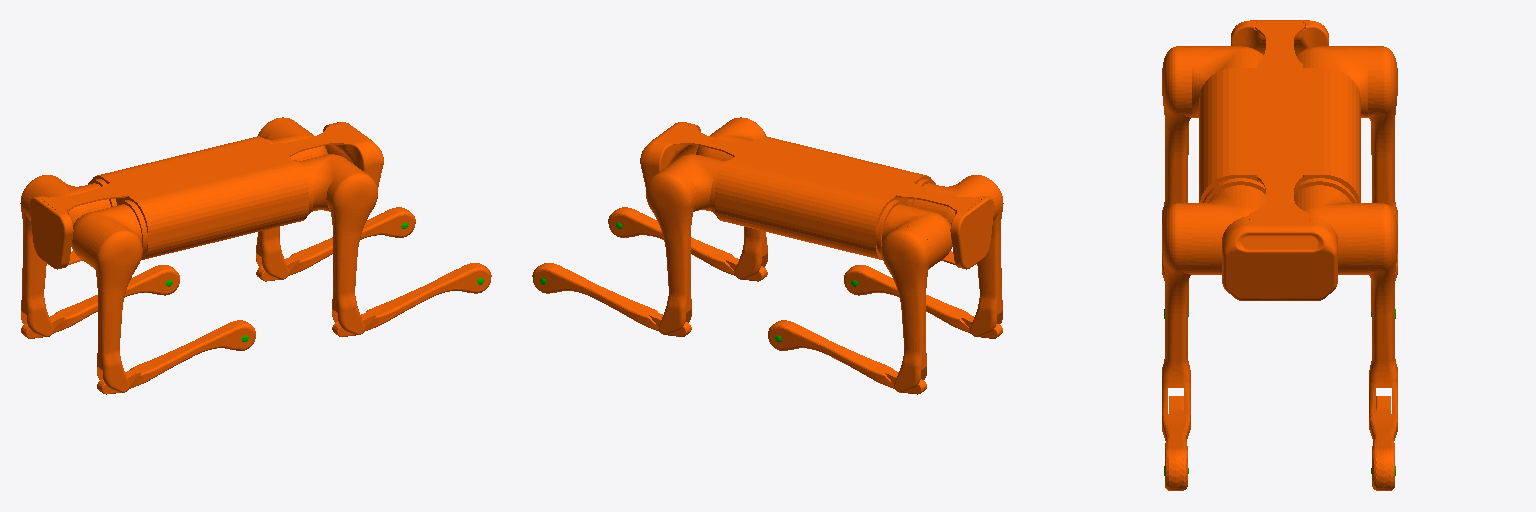
--- Facts derived from the render (not from the file) ---
3 views of the same robot in one strip: view 1: azimuth 30°, elevation 25°; view 2: azimuth 150°, elevation 25°; view 3: azimuth 270°, elevation 25° (orthographic).
Robot: aliengo_description — 19 links, 18 joints (8 revolute, 4 continuous, 6 fixed); root link base; default pose: joints at zero except 4 at the middle of their limits (FR_calf_joint = -1.71, FL_calf_joint = -1.71, RR_calf_joint = -1.71, RL_calf_joint = -1.71).
Links seen in each view (by area): view 1: trunk, FR_thigh, RR_thigh, FR_calf, RR_calf, RL_thigh, RR_hip, FL_calf, RL_calf, FR_hip, FL_thigh, RL_hip (+1 smaller); view 2: trunk, FL_thigh, RL_thigh, FL_calf, RL_calf, RR_thigh, RL_hip, FR_calf, RR_calf, FL_hip, FR_thigh, RR_hip (+1 smaller); view 3: trunk, FR_thigh, FL_thigh, RR_thigh, RL_thigh, FR_hip, FL_hip, FR_calf, FL_calf, RR_hip, RL_hip.
Link boxes in pixels (left/top/right/bottom): trunk: left=29, top=122, right=383, bottom=269; FR_thigh: left=326, top=169, right=377, bottom=334; RR_thigh: left=91, top=226, right=142, bottom=392; FR_calf: left=332, top=263, right=491, bottom=336; RR_calf: left=97, top=320, right=255, bottom=394; RL_thigh: left=20, top=175, right=61, bottom=336; RR_hip: left=72, top=200, right=147, bottom=268; FL_calf: left=256, top=207, right=415, bottom=281; RL_calf: left=21, top=265, right=179, bottom=338; FR_hip: left=294, top=154, right=363, bottom=214; FL_thigh: left=256, top=117, right=297, bottom=279; RL_hip: left=27, top=179, right=116, bottom=224; trunk: left=640, top=122, right=994, bottom=269; FL_thigh: left=646, top=169, right=697, bottom=334; RL_thigh: left=881, top=226, right=932, bottom=392; FL_calf: left=532, top=263, right=691, bottom=336; RL_calf: left=768, top=320, right=926, bottom=394; RR_thigh: left=962, top=175, right=1003, bottom=336; RL_hip: left=876, top=200, right=951, bottom=268; FR_calf: left=608, top=207, right=767, bottom=281; RR_calf: left=844, top=265, right=1002, bottom=338; FL_hip: left=660, top=154, right=729, bottom=214; FR_thigh: left=726, top=117, right=767, bottom=279; RR_hip: left=907, top=179, right=996, bottom=224; trunk: left=1199, top=20, right=1360, bottom=300; FR_thigh: left=1162, top=203, right=1191, bottom=419; FL_thigh: left=1368, top=203, right=1397, bottom=419; RR_thigh: left=1162, top=46, right=1191, bottom=260; RL_thigh: left=1368, top=46, right=1397, bottom=260; FR_hip: left=1192, top=178, right=1265, bottom=274; FL_hip: left=1294, top=178, right=1367, bottom=274; FR_calf: left=1162, top=396, right=1190, bottom=490; FL_calf: left=1369, top=396, right=1397, bottom=490; RR_hip: left=1192, top=46, right=1263, bottom=117; RL_hip: left=1296, top=46, right=1367, bottom=117.
Bounding box of the posed robot: 0.8247 × 0.3054 × 0.321 m (x, y, z).
Meshes: 5 distinct files referenced, 13 mesh visuals loaded (5 Collada DAE).

URDF robot description (aliengo_description):
<?xml version="1.0" encoding="utf-8"?>
<!-- =================================================================================== -->
<!-- |    This document was autogenerated by xacro from robot.xacro                    | -->
<!-- |    EDITING THIS FILE BY HAND IS NOT RECOMMENDED                                 | -->
<!-- =================================================================================== -->
<robot name="aliengo_description">
  <material name="black">
    <color rgba="0.0 0.0 0.0 1.0"/>
  </material>
  <material name="blue">
    <color rgba="0.0 0.0 0.8 1.0"/>
  </material>
  <material name="green">
    <color rgba="0.0 0.8 0.0 1.0"/>
  </material>
  <material name="grey">
    <color rgba="0.2 0.2 0.2 1.0"/>
  </material>
  <material name="silver">
    <color rgba="0.913725490196 0.913725490196 0.847058823529 1.0"/>
  </material>
  <material name="orange">
    <color rgba="1.0 0.423529411765 0.0392156862745 1.0"/>
  </material>
  <material name="brown">
    <color rgba="0.870588235294 0.811764705882 0.764705882353 1.0"/>
  </material>
  <material name="red">
    <color rgba="0.8 0.0 0.0 1.0"/>
  </material>
  <material name="white">
    <color rgba="1.0 1.0 1.0 1.0"/>
  </material>
  <!-- ros_control plugin -->
  <gazebo>
    <plugin filename="libgazebo_ros_control.so" name="gazebo_ros_control">
      <robotNamespace>/aliengo_gazebo</robotNamespace>
      <robotSimType>gazebo_ros_control/DefaultRobotHWSim</robotSimType>
    </plugin>
  </gazebo>
  <!-- Show the trajectory of trunk center. -->
  <gazebo>
    <plugin filename="libLinkPlot3DPlugin.so" name="3dplot">
      <frequency>10</frequency>
      <plot>
        <link>base</link>
        <pose>0 0 0 0 0 0</pose>
        <material>Gazebo/Yellow</material>
      </plot>
    </plugin>
  </gazebo>
  <!-- Show the trajectory of foot. You can add another trajectory about another foot. -->
  <!-- <gazebo>
        <plugin name="3dplot" filename="libLinkPlot3DPlugin.so">
            <frequency>100</frequency>
            <plot>
                <link>FL_foot</link>
                <pose>0 0 0 0 0 0</pose>
                <material>Gazebo/Green</material>
            </plot>
        </plugin>
    </gazebo> -->
  <gazebo>
    <plugin filename="libgazebo_ros_force.so" name="gazebo_ros_force">
      <bodyName>trunk</bodyName>
      <topicName>/apply_force/trunk</topicName>
    </plugin>
  </gazebo>
  <gazebo reference="imu_link">
    <gravity>true</gravity>
    <sensor name="imu_sensor" type="imu">
      <always_on>true</always_on>
      <update_rate>1000</update_rate>
      <visualize>true</visualize>
      <topic>__default_topic__</topic>
      <plugin filename="libgazebo_ros_imu_sensor.so" name="imu_plugin">
        <topicName>trunk_imu</topicName>
        <bodyName>imu_link</bodyName>
        <updateRateHZ>1000.0</updateRateHZ>
        <gaussianNoise>0.0</gaussianNoise>
        <xyzOffset>0 0 0</xyzOffset>
        <rpyOffset>0 0 0</rpyOffset>
        <frameName>imu_link</frameName>
      </plugin>
      <pose>0 0 0 0 0 0</pose>
    </sensor>
  </gazebo>
  <!-- Foot contacts. -->
  <gazebo reference="FR_calf">
    <sensor name="FR_foot_contact" type="contact">
      <update_rate>100</update_rate>
      <plugin filename="libunitreeFootContactPlugin.so" name="contactPlugin"/>
      <contact>
        <collision>FR_calf_fixed_joint_lump__FR_foot_collision_1</collision>
      </contact>
    </sensor>
  </gazebo>
  <gazebo reference="FL_calf">
    <sensor name="FL_foot_contact" type="contact">
      <update_rate>100</update_rate>
      <plugin filename="libunitreeFootContactPlugin.so" name="contactPlugin"/>
      <contact>
        <collision>FL_calf_fixed_joint_lump__FL_foot_collision_1</collision>
      </contact>
    </sensor>
  </gazebo>
  <gazebo reference="RR_calf">
    <sensor name="RR_foot_contact" type="contact">
      <update_rate>100</update_rate>
      <plugin filename="libunitreeFootContactPlugin.so" name="contactPlugin"/>
      <contact>
        <collision>RR_calf_fixed_joint_lump__RR_foot_collision_1</collision>
      </contact>
    </sensor>
  </gazebo>
  <gazebo reference="RL_calf">
    <sensor name="RL_foot_contact" type="contact">
      <update_rate>100</update_rate>
      <plugin filename="libunitreeFootContactPlugin.so" name="contactPlugin"/>
      <contact>
        <collision>RL_calf_fixed_joint_lump__RL_foot_collision_1</collision>
      </contact>
    </sensor>
  </gazebo>
  <!-- Visualization of Foot contacts. -->
  <gazebo reference="FR_foot">
    <visual>
      <plugin filename="libunitreeDrawForcePlugin.so" name="drawForcePlugin">
        <topicName>FR_foot_contact</topicName>
      </plugin>
    </visual>
  </gazebo>
  <gazebo reference="FL_foot">
    <visual>
      <plugin filename="libunitreeDrawForcePlugin.so" name="drawForcePlugin">
        <topicName>FL_foot_contact</topicName>
      </plugin>
    </visual>
  </gazebo>
  <gazebo reference="RR_foot">
    <visual>
      <plugin filename="libunitreeDrawForcePlugin.so" name="drawForcePlugin">
        <topicName>RR_foot_contact</topicName>
      </plugin>
    </visual>
  </gazebo>
  <gazebo reference="RL_foot">
    <visual>
      <plugin filename="libunitreeDrawForcePlugin.so" name="drawForcePlugin">
        <topicName>RL_foot_contact</topicName>
      </plugin>
    </visual>
  </gazebo>
  <gazebo reference="base">
    <material>Gazebo/Green</material>
    <turnGravityOff>false</turnGravityOff>
  </gazebo>
  <gazebo reference="trunk">
    <mu1>0.2</mu1>
    <mu2>0.2</mu2>
    <kp value="1000000.0"/>
    <kd value="1.0"/>
  </gazebo>
  <gazebo reference="stick_link">
    <mu1>0.2</mu1>
    <mu2>0.2</mu2>
    <material>Gazebo/White</material>
  </gazebo>
  <gazebo reference="imu_link">
    <mu1>0.2</mu1>
    <mu2>0.2</mu2>
    <material>Gazebo/Red</material>
  </gazebo>
  <!-- FL leg -->
  <gazebo reference="FL_hip">
    <mu1>0.2</mu1>
    <mu2>0.2</mu2>
    <material>Gazebo/DarkGrey</material>
  </gazebo>
  <gazebo reference="FL_thigh">
    <mu1>0.2</mu1>
    <mu2>0.2</mu2>
    <self_collide>1</self_collide>
    <material>Gazebo/DarkGrey</material>
    <kp value="1000000.0"/>
    <kd value="1.0"/>
  </gazebo>
  <gazebo reference="FL_calf">
    <mu1>0.2</mu1>
    <mu2>0.2</mu2>
    <self_collide>1</self_collide>
  </gazebo>
  <gazebo reference="FL_foot">
    <mu1>0.6</mu1>
    <mu2>0.6</mu2>
    <self_collide>1</self_collide>
    <material>Gazebo/DarkGrey</material>
    <kp value="1000000.0"/>
    <kd value="1.0"/>
  </gazebo>
  <!-- FR leg -->
  <gazebo reference="FR_hip">
    <mu1>0.2</mu1>
    <mu2>0.2</mu2>
    <material>Gazebo/DarkGrey</material>
  </gazebo>
  <gazebo reference="FR_thigh">
    <mu1>0.2</mu1>
    <mu2>0.2</mu2>
    <self_collide>1</self_collide>
    <material>Gazebo/DarkGrey</material>
    <kp value="1000000.0"/>
    <kd value="1.0"/>
  </gazebo>
  <gazebo reference="FR_calf">
    <mu1>0.2</mu1>
    <mu2>0.2</mu2>
    <self_collide>1</self_collide>
  </gazebo>
  <gazebo reference="FR_foot">
    <mu1>0.6</mu1>
    <mu2>0.6</mu2>
    <self_collide>1</self_collide>
    <material>Gazebo/DarkGrey</material>
    <kp value="1000000.0"/>
    <kd value="1.0"/>
  </gazebo>
  <!-- RL leg -->
  <gazebo reference="RL_hip">
    <mu1>0.2</mu1>
    <mu2>0.2</mu2>
    <material>Gazebo/DarkGrey</material>
  </gazebo>
  <gazebo reference="RL_thigh">
    <mu1>0.2</mu1>
    <mu2>0.2</mu2>
    <self_collide>1</self_collide>
    <material>Gazebo/DarkGrey</material>
    <kp value="1000000.0"/>
    <kd value="1.0"/>
  </gazebo>
  <gazebo reference="RL_calf">
    <mu1>0.2</mu1>
    <mu2>0.2</mu2>
    <self_collide>1</self_collide>
  </gazebo>
  <gazebo reference="RL_foot">
    <mu1>0.6</mu1>
    <mu2>0.6</mu2>
    <self_collide>1</self_collide>
    <material>Gazebo/DarkGrey</material>
    <kp value="1000000.0"/>
    <kd value="1.0"/>
  </gazebo>
  <!-- RR leg -->
  <gazebo reference="RR_hip">
    <mu1>0.2</mu1>
    <mu2>0.2</mu2>
    <material>Gazebo/DarkGrey</material>
  </gazebo>
  <gazebo reference="RR_thigh">
    <mu1>0.2</mu1>
    <mu2>0.2</mu2>
    <self_collide>1</self_collide>
    <material>Gazebo/DarkGrey</material>
    <kp value="1000000.0"/>
    <kd value="1.0"/>
  </gazebo>
  <gazebo reference="RR_calf">
    <mu1>0.2</mu1>
    <mu2>0.2</mu2>
    <self_collide>1</self_collide>
  </gazebo>
  <gazebo reference="RR_foot">
    <mu1>0.6</mu1>
    <mu2>0.6</mu2>
    <self_collide>1</self_collide>
    <material>Gazebo/DarkGrey</material>
    <kp value="1000000.0"/>
    <kd value="1.0"/>
  </gazebo>
  <!-- Debug mode will hung up the robot, use "true" or "false" to switch it. -->
  <!-- <xacro:if value="$(arg DEBUG)">
        <link name="world"/>
        <joint name="base_static_joint" type="fixed">
            <origin rpy="0 0 0" xyz="0 0 0"/>
            <parent link="world"/>
            <child link="base"/>
        </joint>
    </xacro:if>  -->
  <link name="base">
    <visual>
      <origin rpy="0 0 0" xyz="0 0 0"/>
      <geometry>
        <box size="0.001 0.001 0.001"/>
      </geometry>
    </visual>
  </link>
  <joint name="floating_base" type="fixed">
    <origin rpy="0 0 0" xyz="0 0 0"/>
    <parent link="base"/>
    <child link="trunk"/>
  </joint>
  <link name="trunk">
    <visual>
      <origin rpy="0 0 0" xyz="0 0 0"/>
      <geometry>
        <mesh filename="package://aliengo_description/meshes/trunk.dae" scale="1 1 1"/>
      </geometry>
      <material name="orange"/>
    </visual>
    <collision>
      <origin rpy="0 0 0" xyz="0 0 0"/>
      <geometry>
        <box size="0.647 0.15 0.112"/>
      </geometry>
    </collision>
    <!-- <collision>
            <origin rpy="0 0 0" xyz="0 0 0"/>
            <geometry>
                <mesh filename="package://aliengo_description/meshes/trunk.dae" scale="1 1 1"/>
            </geometry>
        </collision> -->
    <inertial>
      <origin rpy="0 0 0" xyz="0.008465 0.004045 -0.000763"/>
      <mass value="9.041"/>
      <inertia ixx="0.033260231" ixy="-0.000451628" ixz="0.000487603" iyy="0.16117211" iyz="4.8356e-05" izz="0.17460442"/>
    </inertial>
  </link>
  <joint name="imu_joint" type="fixed">
    <parent link="trunk"/>
    <child link="imu_link"/>
    <origin rpy="0 0 0" xyz="0 0 0"/>
  </joint>
  <link name="imu_link">
    <inertial>
      <mass value="0.001"/>
      <origin rpy="0 0 0" xyz="0 0 0"/>
      <inertia ixx="0.0001" ixy="0" ixz="0" iyy="0.000001" iyz="0" izz="0.0001"/>
    </inertial>
    <visual>
      <origin rpy="0 0 0" xyz="0 0 0"/>
      <geometry>
        <box size="0.001 0.001 0.001"/>
      </geometry>
      <material name="red"/>
    </visual>
    <collision>
      <origin rpy="0 0 0" xyz="0 0 0"/>
      <geometry>
        <box size=".001 .001 .001"/>
      </geometry>
    </collision>
  </link>
  <joint name="FR_hip_joint" type="revolute">
    <origin rpy="0 0 0" xyz="0.2399 -0.051 0"/>
    <parent link="trunk"/>
    <child link="FR_hip"/>
    <axis xyz="1 0 0"/>
    <dynamics damping="0" friction="0"/>
    <limit effort="44" lower="-1.2217304764" upper="1.2217304764" velocity="20"/>
  </joint>
  <link name="FR_hip">
    <visual>
      <origin rpy="3.14159265359 0 0" xyz="0 0 0"/>
      <geometry>
        <mesh filename="package://aliengo_description/meshes/hip.dae" scale="1 1 1"/>
      </geometry>
      <material name="orange"/>
    </visual>
    <collision>
      <origin rpy="1.57079632679 0 0" xyz="0 -0.083 0"/>
      <geometry>
        <cylinder length="0.0418" radius="0.046"/>
      </geometry>
    </collision>
    <inertial>
      <origin rpy="0 0 0" xyz="-0.022191 -0.015144 -1.5e-05"/>
      <mass value="1.993"/>
      <inertia ixx="0.002903894" ixy="7.185e-05" ixz="-1.262e-06" iyy="0.004907517" iyz="1.75e-06" izz="0.005586944"/>
    </inertial>
  </link>
  <!-- <joint name="${name}_hip_fixed" type="fixed">
            <origin rpy="0 0 0" xyz="0 ${(thigh_shoulder_length/2.0+hip_offset)*mirror} 0"/>
            <parent link="${name}_hip"/>
            <child link="${name}_thigh_shoulder"/>
        </joint> -->
  <!-- this link is only for collision -->
  <!-- <link name="${name}_thigh_shoulder">
            <collision>
                <origin rpy="${PI/2.0} 0 0" xyz="0 0 0"/>
                <geometry>
                    <cylinder length="${thigh_shoulder_length}" radius="${thigh_shoulder_radius}"/>
                </geometry>
            </collision>
        </link> -->
  <joint name="FR_thigh_joint" type="continuous">
    <origin rpy="0 0 0" xyz="0 -0.083 0"/>
    <parent link="FR_hip"/>
    <child link="FR_thigh"/>
    <axis xyz="0 1 0"/>
    <dynamics damping="0" friction="0"/>
    <limit effort="44" velocity="20"/>
  </joint>
  <link name="FR_thigh">
    <visual>
      <origin rpy="0 0 0" xyz="0 0 0"/>
      <geometry>
        <mesh filename="package://aliengo_description/meshes/thigh_mirror.dae" scale="1 1 1"/>
      </geometry>
      <material name="orange"/>
    </visual>
    <collision>
      <origin rpy="0 1.57079632679 0" xyz="0 0 -0.125"/>
      <geometry>
        <box size="0.25 0.0374 0.043"/>
      </geometry>
    </collision>
    <inertial>
      <origin rpy="0 0 0" xyz="-0.005607 0.003877 -0.048199"/>
      <mass value="0.639"/>
      <inertia ixx="0.005666803" ixy="-3.597e-06" ixz="0.000491446" iyy="0.005847229" iyz="-1.0086e-05" izz="0.000369811"/>
    </inertial>
  </link>
  <joint name="FR_calf_joint" type="revolute">
    <origin rpy="0 0 0" xyz="0 0 -0.25"/>
    <parent link="FR_thigh"/>
    <child link="FR_calf"/>
    <axis xyz="0 1 0"/>
    <dynamics damping="0" friction="0"/>
    <limit effort="55" lower="-2.77507351067" upper="-0.645771823238" velocity="16"/>
  </joint>
  <link name="FR_calf">
    <visual>
      <origin rpy="0 0 0" xyz="0 0 0"/>
      <geometry>
        <mesh filename="package://aliengo_description/meshes/calf.dae" scale="1 1 1"/>
      </geometry>
      <material name="orange"/>
    </visual>
    <collision>
      <origin rpy="0 1.57079632679 0" xyz="0 0 -0.125"/>
      <geometry>
        <box size="0.25 0.0208 0.016"/>
      </geometry>
    </collision>
    <inertial>
      <origin rpy="0 0 0" xyz="0.002781 6.3e-05 -0.142518"/>
      <mass value="0.207"/>
      <inertia ixx="0.006341369" ixy="-3e-09" ixz="-8.7951e-05" iyy="0.006355157" iyz="-1.336e-06" izz="3.9188e-05"/>
    </inertial>
  </link>
  <joint name="FR_foot_fixed" type="fixed">
    <origin rpy="0 0 0" xyz="0 0 -0.25"/>
    <parent link="FR_calf"/>
    <child link="FR_foot"/>
  </joint>
  <link name="FR_foot">
    <visual>
      <origin rpy="0 0 0" xyz="0 0 0"/>
      <geometry>
        <sphere radius="0.0165"/>
      </geometry>
      <material name="green"/>
    </visual>
    <collision>
      <origin rpy="0 0 0" xyz="0 0 0"/>
      <geometry>
        <sphere radius="0.0265"/>
      </geometry>
    </collision>
    <inertial>
      <mass value="0.06"/>
      <inertia ixx="1.6854e-05" ixy="0.0" ixz="0.0" iyy="1.6854e-05" iyz="0.0" izz="1.6854e-05"/>
    </inertial>
  </link>
  <transmission name="FR_hip_tran">
    <type>transmission_interface/SimpleTransmission</type>
    <joint name="FR_hip_joint">
      <hardwareInterface>hardware_interface/EffortJointInterface</hardwareInterface>
    </joint>
    <actuator name="FR_hip_motor">
      <hardwareInterface>hardware_interface/EffortJointInterface</hardwareInterface>
      <mechanicalReduction>1</mechanicalReduction>
    </actuator>
  </transmission>
  <transmission name="FR_thigh_tran">
    <type>transmission_interface/SimpleTransmission</type>
    <joint name="FR_thigh_joint">
      <hardwareInterface>hardware_interface/EffortJointInterface</hardwareInterface>
    </joint>
    <actuator name="FR_thigh_motor">
      <hardwareInterface>hardware_interface/EffortJointInterface</hardwareInterface>
      <mechanicalReduction>1</mechanicalReduction>
    </actuator>
  </transmission>
  <transmission name="FR_calf_tran">
    <type>transmission_interface/SimpleTransmission</type>
    <joint name="FR_calf_joint">
      <hardwareInterface>hardware_interface/EffortJointInterface</hardwareInterface>
    </joint>
    <actuator name="FR_calf_motor">
      <hardwareInterface>hardware_interface/EffortJointInterface</hardwareInterface>
      <mechanicalReduction>1</mechanicalReduction>
    </actuator>
  </transmission>
  <joint name="FL_hip_joint" type="revolute">
    <origin rpy="0 0 0" xyz="0.2399 0.051 0"/>
    <parent link="trunk"/>
    <child link="FL_hip"/>
    <axis xyz="1 0 0"/>
    <dynamics damping="0" friction="0"/>
    <limit effort="44" lower="-1.2217304764" upper="1.2217304764" velocity="20"/>
  </joint>
  <link name="FL_hip">
    <visual>
      <origin rpy="0 0 0" xyz="0 0 0"/>
      <geometry>
        <mesh filename="package://aliengo_description/meshes/hip.dae" scale="1 1 1"/>
      </geometry>
      <material name="orange"/>
    </visual>
    <collision>
      <origin rpy="1.57079632679 0 0" xyz="0 0.083 0"/>
      <geometry>
        <cylinder length="0.0418" radius="0.046"/>
      </geometry>
    </collision>
    <inertial>
      <origin rpy="0 0 0" xyz="-0.022191 0.015144 -1.5e-05"/>
      <mass value="1.993"/>
      <inertia ixx="0.002903894" ixy="-7.185e-05" ixz="-1.262e-06" iyy="0.004907517" iyz="-1.75e-06" izz="0.005586944"/>
    </inertial>
  </link>
  <!-- <joint name="${name}_hip_fixed" type="fixed">
            <origin rpy="0 0 0" xyz="0 ${(thigh_shoulder_length/2.0+hip_offset)*mirror} 0"/>
            <parent link="${name}_hip"/>
            <child link="${name}_thigh_shoulder"/>
        </joint> -->
  <!-- this link is only for collision -->
  <!-- <link name="${name}_thigh_shoulder">
            <collision>
                <origin rpy="${PI/2.0} 0 0" xyz="0 0 0"/>
                <geometry>
                    <cylinder length="${thigh_shoulder_length}" radius="${thigh_shoulder_radius}"/>
                </geometry>
            </collision>
        </link> -->
  <joint name="FL_thigh_joint" type="continuous">
    <origin rpy="0 0 0" xyz="0 0.083 0"/>
    <parent link="FL_hip"/>
    <child link="FL_thigh"/>
    <axis xyz="0 1 0"/>
    <dynamics damping="0" friction="0"/>
    <limit effort="44" velocity="20"/>
  </joint>
  <link name="FL_thigh">
    <visual>
      <origin rpy="0 0 0" xyz="0 0 0"/>
      <geometry>
        <mesh filename="package://aliengo_description/meshes/thigh.dae" scale="1 1 1"/>
      </geometry>
      <material name="orange"/>
    </visual>
    <collision>
      <origin rpy="0 1.57079632679 0" xyz="0 0 -0.125"/>
      <geometry>
        <box size="0.25 0.0374 0.043"/>
      </geometry>
    </collision>
    <inertial>
      <origin rpy="0 0 0" xyz="-0.005607 -0.003877 -0.048199"/>
      <mass value="0.639"/>
      <inertia ixx="0.005666803" ixy="3.597e-06" ixz="0.000491446" iyy="0.005847229" iyz="1.0086e-05" izz="0.000369811"/>
    </inertial>
  </link>
  <joint name="FL_calf_joint" type="revolute">
    <origin rpy="0 0 0" xyz="0 0 -0.25"/>
    <parent link="FL_thigh"/>
    <child link="FL_calf"/>
    <axis xyz="0 1 0"/>
    <dynamics damping="0" friction="0"/>
    <limit effort="55" lower="-2.77507351067" upper="-0.645771823238" velocity="16"/>
  </joint>
  <link name="FL_calf">
    <visual>
      <origin rpy="0 0 0" xyz="0 0 0"/>
      <geometry>
        <mesh filename="package://aliengo_description/meshes/calf.dae" scale="1 1 1"/>
      </geometry>
      <material name="orange"/>
    </visual>
    <collision>
      <origin rpy="0 1.57079632679 0" xyz="0 0 -0.125"/>
      <geometry>
        <box size="0.25 0.0208 0.016"/>
      </geometry>
    </collision>
    <inertial>
      <origin rpy="0 0 0" xyz="0.002781 6.3e-05 -0.142518"/>
      <mass value="0.207"/>
      <inertia ixx="0.006341369" ixy="-3e-09" ixz="-8.7951e-05" iyy="0.006355157" iyz="-1.336e-06" izz="3.9188e-05"/>
    </inertial>
  </link>
  <joint name="FL_foot_fixed" type="fixed">
    <origin rpy="0 0 0" xyz="0 0 -0.25"/>
    <parent link="FL_calf"/>
    <child link="FL_foot"/>
  </joint>
  <link name="FL_foot">
    <visual>
      <origin rpy="0 0 0" xyz="0 0 0"/>
      <geometry>
        <sphere radius="0.0165"/>
      </geometry>
      <material name="green"/>
    </visual>
    <collision>
      <origin rpy="0 0 0" xyz="0 0 0"/>
      <geometry>
        <sphere radius="0.0265"/>
      </geometry>
    </collision>
    <inertial>
      <mass value="0.06"/>
      <inertia ixx="1.6854e-05" ixy="0.0" ixz="0.0" iyy="1.6854e-05" iyz="0.0" izz="1.6854e-05"/>
    </inertial>
  </link>
  <transmission name="FL_hip_tran">
    <type>transmission_interface/SimpleTransmission</type>
    <joint name="FL_hip_joint">
      <hardwareInterface>hardware_interface/EffortJointInterface</hardwareInterface>
    </joint>
    <actuator name="FL_hip_motor">
      <hardwareInterface>hardware_interface/EffortJointInterface</hardwareInterface>
      <mechanicalReduction>1</mechanicalReduction>
    </actuator>
  </transmission>
  <transmission name="FL_thigh_tran">
    <type>transmission_interface/SimpleTransmission</type>
    <joint name="FL_thigh_joint">
      <hardwareInterface>hardware_interface/EffortJointInterface</hardwareInterface>
    </joint>
    <actuator name="FL_thigh_motor">
      <hardwareInterface>hardware_interface/EffortJointInterface</hardwareInterface>
      <mechanicalReduction>1</mechanicalReduction>
    </actuator>
  </transmission>
  <transmission name="FL_calf_tran">
    <type>transmission_interface/SimpleTransmission</type>
    <joint name="FL_calf_joint">
      <hardwareInterface>hardware_interface/EffortJointInterface</hardwareInterface>
    </joint>
    <actuator name="FL_calf_motor">
      <hardwareInterface>hardware_interface/EffortJointInterface</hardwareInterface>
      <mechanicalReduction>1</mechanicalReduction>
    </actuator>
  </transmission>
  <joint name="RR_hip_joint" type="revolute">
    <origin rpy="0 0 0" xyz="-0.2399 -0.051 0"/>
    <parent link="trunk"/>
    <child link="RR_hip"/>
    <axis xyz="1 0 0"/>
    <dynamics damping="0" friction="0"/>
    <limit effort="44" lower="-1.2217304764" upper="1.2217304764" velocity="20"/>
  </joint>
  <link name="RR_hip">
    <visual>
      <origin rpy="3.14159265359 3.14159265359 0" xyz="0 0 0"/>
      <geometry>
        <mesh filename="package://aliengo_description/meshes/hip.dae" scale="1 1 1"/>
      </geometry>
      <material name="orange"/>
    </visual>
    <collision>
      <origin rpy="1.57079632679 0 0" xyz="0 -0.083 0"/>
      <geometry>
        <cylinder length="0.0418" radius="0.046"/>
      </geometry>
    </collision>
    <inertial>
      <origin rpy="0 0 0" xyz="0.022191 -0.015144 -1.5e-05"/>
      <mass value="1.993"/>
      <inertia ixx="0.002903894" ixy="-7.185e-05" ixz="1.262e-06" iyy="0.004907517" iyz="1.75e-06" izz="0.005586944"/>
    </inertial>
  </link>
  <!-- <joint name="${name}_hip_fixed" type="fixed">
            <origin rpy="0 0 0" xyz="0 ${(thigh_shoulder_length/2.0+hip_offset)*mirror} 0"/>
            <parent link="${name}_hip"/>
            <child link="${name}_thigh_shoulder"/>
        </joint> -->
  <!-- this link is only for collision -->
  <!-- <link name="${name}_thigh_shoulder">
            <collision>
                <origin rpy="${PI/2.0} 0 0" xyz="0 0 0"/>
                <geometry>
                    <cylinder length="${thigh_shoulder_length}" radius="${thigh_shoulder_radius}"/>
                </geometry>
            </collision>
        </link> -->
  <joint name="RR_thigh_joint" type="continuous">
    <origin rpy="0 0 0" xyz="0 -0.083 0"/>
    <parent link="RR_hip"/>
    <child link="RR_thigh"/>
    <axis xyz="0 1 0"/>
    <dynamics damping="0" friction="0"/>
    <limit effort="44" velocity="20"/>
  </joint>
  <link name="RR_thigh">
    <visual>
      <origin rpy="0 0 0" xyz="0 0 0"/>
      <geometry>
        <mesh filename="package://aliengo_description/meshes/thigh_mirror.dae" scale="1 1 1"/>
      </geometry>
      <material name="orange"/>
    </visual>
    <collision>
      <origin rpy="0 1.57079632679 0" xyz="0 0 -0.125"/>
      <geometry>
        <box size="0.25 0.0374 0.043"/>
      </geometry>
    </collision>
    <inertial>
      <origin rpy="0 0 0" xyz="-0.005607 0.003877 -0.048199"/>
      <mass value="0.639"/>
      <inertia ixx="0.005666803" ixy="-3.597e-06" ixz="0.000491446" iyy="0.005847229" iyz="-1.0086e-05" izz="0.000369811"/>
    </inertial>
  </link>
  <joint name="RR_calf_joint" type="revolute">
    <origin rpy="0 0 0" xyz="0 0 -0.25"/>
    <parent link="RR_thigh"/>
    <child link="RR_calf"/>
    <axis xyz="0 1 0"/>
    <dynamics damping="0" friction="0"/>
    <limit effort="55" lower="-2.77507351067" upper="-0.645771823238" velocity="16"/>
  </joint>
  <link name="RR_calf">
    <visual>
      <origin rpy="0 0 0" xyz="0 0 0"/>
      <geometry>
        <mesh filename="package://aliengo_description/meshes/calf.dae" scale="1 1 1"/>
      </geometry>
      <material name="orange"/>
    </visual>
    <collision>
      <origin rpy="0 1.57079632679 0" xyz="0 0 -0.125"/>
      <geometry>
        <box size="0.25 0.0208 0.016"/>
      </geometry>
    </collision>
    <inertial>
      <origin rpy="0 0 0" xyz="0.002781 6.3e-05 -0.142518"/>
      <mass value="0.207"/>
      <inertia ixx="0.006341369" ixy="-3e-09" ixz="-8.7951e-05" iyy="0.006355157" iyz="-1.336e-06" izz="3.9188e-05"/>
    </inertial>
  </link>
  <joint name="RR_foot_fixed" type="fixed">
    <origin rpy="0 0 0" xyz="0 0 -0.25"/>
    <parent link="RR_calf"/>
    <child link="RR_foot"/>
  </joint>
  <link name="RR_foot">
    <visual>
      <origin rpy="0 0 0" xyz="0 0 0"/>
      <geometry>
        <sphere radius="0.0165"/>
      </geometry>
      <material name="green"/>
    </visual>
    <collision>
      <origin rpy="0 0 0" xyz="0 0 0"/>
      <geometry>
        <sphere radius="0.0265"/>
      </geometry>
    </collision>
    <inertial>
      <mass value="0.06"/>
      <inertia ixx="1.6854e-05" ixy="0.0" ixz="0.0" iyy="1.6854e-05" iyz="0.0" izz="1.6854e-05"/>
    </inertial>
  </link>
  <transmission name="RR_hip_tran">
    <type>transmission_interface/SimpleTransmission</type>
    <joint name="RR_hip_joint">
      <hardwareInterface>hardware_interface/EffortJointInterface</hardwareInterface>
    </joint>
    <actuator name="RR_hip_motor">
      <hardwareInterface>hardware_interface/EffortJointInterface</hardwareInterface>
      <mechanicalReduction>1</mechanicalReduction>
    </actuator>
  </transmission>
  <transmission name="RR_thigh_tran">
    <type>transmission_interface/SimpleTransmission</type>
    <joint name="RR_thigh_joint">
      <hardwareInterface>hardware_interface/EffortJointInterface</hardwareInterface>
    </joint>
    <actuator name="RR_thigh_motor">
      <hardwareInterface>hardware_interface/EffortJointInterface</hardwareInterface>
      <mechanicalReduction>1</mechanicalReduction>
    </actuator>
  </transmission>
  <transmission name="RR_calf_tran">
    <type>transmission_interface/SimpleTransmission</type>
    <joint name="RR_calf_joint">
      <hardwareInterface>hardware_interface/EffortJointInterface</hardwareInterface>
    </joint>
    <actuator name="RR_calf_motor">
      <hardwareInterface>hardware_interface/EffortJointInterface</hardwareInterface>
      <mechanicalReduction>1</mechanicalReduction>
    </actuator>
  </transmission>
  <joint name="RL_hip_joint" type="revolute">
    <origin rpy="0 0 0" xyz="-0.2399 0.051 0"/>
    <parent link="trunk"/>
    <child link="RL_hip"/>
    <axis xyz="1 0 0"/>
    <dynamics damping="0" friction="0"/>
    <limit effort="44" lower="-1.2217304764" upper="1.2217304764" velocity="20"/>
  </joint>
  <link name="RL_hip">
    <visual>
      <origin rpy="0 3.14159265359 0" xyz="0 0 0"/>
      <geometry>
        <mesh filename="package://aliengo_description/meshes/hip.dae" scale="1 1 1"/>
      </geometry>
      <material name="orange"/>
    </visual>
    <collision>
      <origin rpy="1.57079632679 0 0" xyz="0 0.083 0"/>
      <geometry>
        <cylinder length="0.0418" radius="0.046"/>
      </geometry>
    </collision>
    <inertial>
      <origin rpy="0 0 0" xyz="0.022191 0.015144 -1.5e-05"/>
      <mass value="1.993"/>
      <inertia ixx="0.002903894" ixy="7.185e-05" ixz="1.262e-06" iyy="0.004907517" iyz="-1.75e-06" izz="0.005586944"/>
    </inertial>
  </link>
  <!-- <joint name="${name}_hip_fixed" type="fixed">
            <origin rpy="0 0 0" xyz="0 ${(thigh_shoulder_length/2.0+hip_offset)*mirror} 0"/>
            <parent link="${name}_hip"/>
            <child link="${name}_thigh_shoulder"/>
        </joint> -->
  <!-- this link is only for collision -->
  <!-- <link name="${name}_thigh_shoulder">
            <collision>
                <origin rpy="${PI/2.0} 0 0" xyz="0 0 0"/>
                <geometry>
                    <cylinder length="${thigh_shoulder_length}" radius="${thigh_shoulder_radius}"/>
                </geometry>
            </collision>
        </link> -->
  <joint name="RL_thigh_joint" type="continuous">
    <origin rpy="0 0 0" xyz="0 0.083 0"/>
    <parent link="RL_hip"/>
    <child link="RL_thigh"/>
    <axis xyz="0 1 0"/>
    <dynamics damping="0" friction="0"/>
    <limit effort="44" velocity="20"/>
  </joint>
  <link name="RL_thigh">
    <visual>
      <origin rpy="0 0 0" xyz="0 0 0"/>
      <geometry>
        <mesh filename="package://aliengo_description/meshes/thigh.dae" scale="1 1 1"/>
      </geometry>
      <material name="orange"/>
    </visual>
    <collision>
      <origin rpy="0 1.57079632679 0" xyz="0 0 -0.125"/>
      <geometry>
        <box size="0.25 0.0374 0.043"/>
      </geometry>
    </collision>
    <inertial>
      <origin rpy="0 0 0" xyz="-0.005607 -0.003877 -0.048199"/>
      <mass value="0.639"/>
      <inertia ixx="0.005666803" ixy="3.597e-06" ixz="0.000491446" iyy="0.005847229" iyz="1.0086e-05" izz="0.000369811"/>
    </inertial>
  </link>
  <joint name="RL_calf_joint" type="revolute">
    <origin rpy="0 0 0" xyz="0 0 -0.25"/>
    <parent link="RL_thigh"/>
    <child link="RL_calf"/>
    <axis xyz="0 1 0"/>
    <dynamics damping="0" friction="0"/>
    <limit effort="55" lower="-2.77507351067" upper="-0.645771823238" velocity="16"/>
  </joint>
  <link name="RL_calf">
    <visual>
      <origin rpy="0 0 0" xyz="0 0 0"/>
      <geometry>
        <mesh filename="package://aliengo_description/meshes/calf.dae" scale="1 1 1"/>
      </geometry>
      <material name="orange"/>
    </visual>
    <collision>
      <origin rpy="0 1.57079632679 0" xyz="0 0 -0.125"/>
      <geometry>
        <box size="0.25 0.0208 0.016"/>
      </geometry>
    </collision>
    <inertial>
      <origin rpy="0 0 0" xyz="0.002781 6.3e-05 -0.142518"/>
      <mass value="0.207"/>
      <inertia ixx="0.006341369" ixy="-3e-09" ixz="-8.7951e-05" iyy="0.006355157" iyz="-1.336e-06" izz="3.9188e-05"/>
    </inertial>
  </link>
  <joint name="RL_foot_fixed" type="fixed">
    <origin rpy="0 0 0" xyz="0 0 -0.25"/>
    <parent link="RL_calf"/>
    <child link="RL_foot"/>
  </joint>
  <link name="RL_foot">
    <visual>
      <origin rpy="0 0 0" xyz="0 0 0"/>
      <geometry>
        <sphere radius="0.0165"/>
      </geometry>
      <material name="green"/>
    </visual>
    <collision>
      <origin rpy="0 0 0" xyz="0 0 0"/>
      <geometry>
        <sphere radius="0.0265"/>
      </geometry>
    </collision>
    <inertial>
      <mass value="0.06"/>
      <inertia ixx="1.6854e-05" ixy="0.0" ixz="0.0" iyy="1.6854e-05" iyz="0.0" izz="1.6854e-05"/>
    </inertial>
  </link>
  <transmission name="RL_hip_tran">
    <type>transmission_interface/SimpleTransmission</type>
    <joint name="RL_hip_joint">
      <hardwareInterface>hardware_interface/EffortJointInterface</hardwareInterface>
    </joint>
    <actuator name="RL_hip_motor">
      <hardwareInterface>hardware_interface/EffortJointInterface</hardwareInterface>
      <mechanicalReduction>1</mechanicalReduction>
    </actuator>
  </transmission>
  <transmission name="RL_thigh_tran">
    <type>transmission_interface/SimpleTransmission</type>
    <joint name="RL_thigh_joint">
      <hardwareInterface>hardware_interface/EffortJointInterface</hardwareInterface>
    </joint>
    <actuator name="RL_thigh_motor">
      <hardwareInterface>hardware_interface/EffortJointInterface</hardwareInterface>
      <mechanicalReduction>1</mechanicalReduction>
    </actuator>
  </transmission>
  <transmission name="RL_calf_tran">
    <type>transmission_interface/SimpleTransmission</type>
    <joint name="RL_calf_joint">
      <hardwareInterface>hardware_interface/EffortJointInterface</hardwareInterface>
    </joint>
    <actuator name="RL_calf_motor">
      <hardwareInterface>hardware_interface/EffortJointInterface</hardwareInterface>
      <mechanicalReduction>1</mechanicalReduction>
    </actuator>
  </transmission>
  <!-- <xacro:stairs stairs="15" xpos="0" ypos="2.0" zpos="0" /> -->
</robot>
